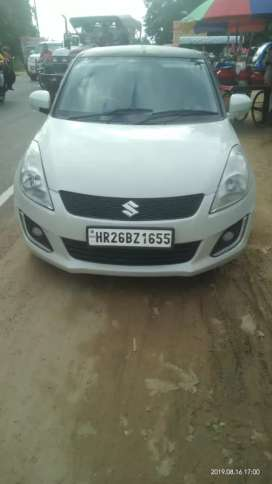license_plate: (88, 227, 172, 246)
